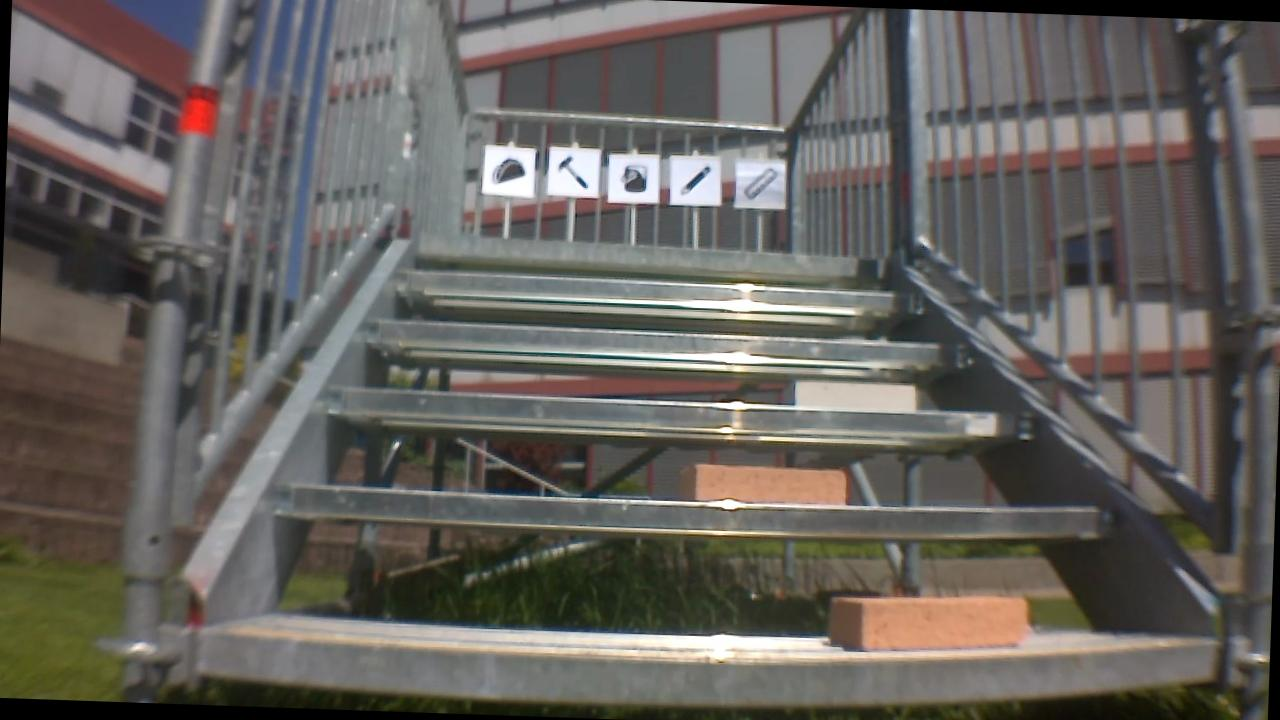brick: (824, 582, 1032, 656), (695, 461, 851, 507), (790, 379, 919, 415)
bucket: (615, 162, 651, 197)
edge: (193, 616, 1235, 720), (278, 472, 1120, 552), (327, 387, 1034, 441), (360, 319, 974, 364), (412, 238, 891, 280), (392, 274, 926, 310)
hammer: (555, 156, 589, 195)
pencil: (675, 161, 714, 199)
steps: (158, 223, 1276, 718)
taco: (491, 155, 527, 185)
